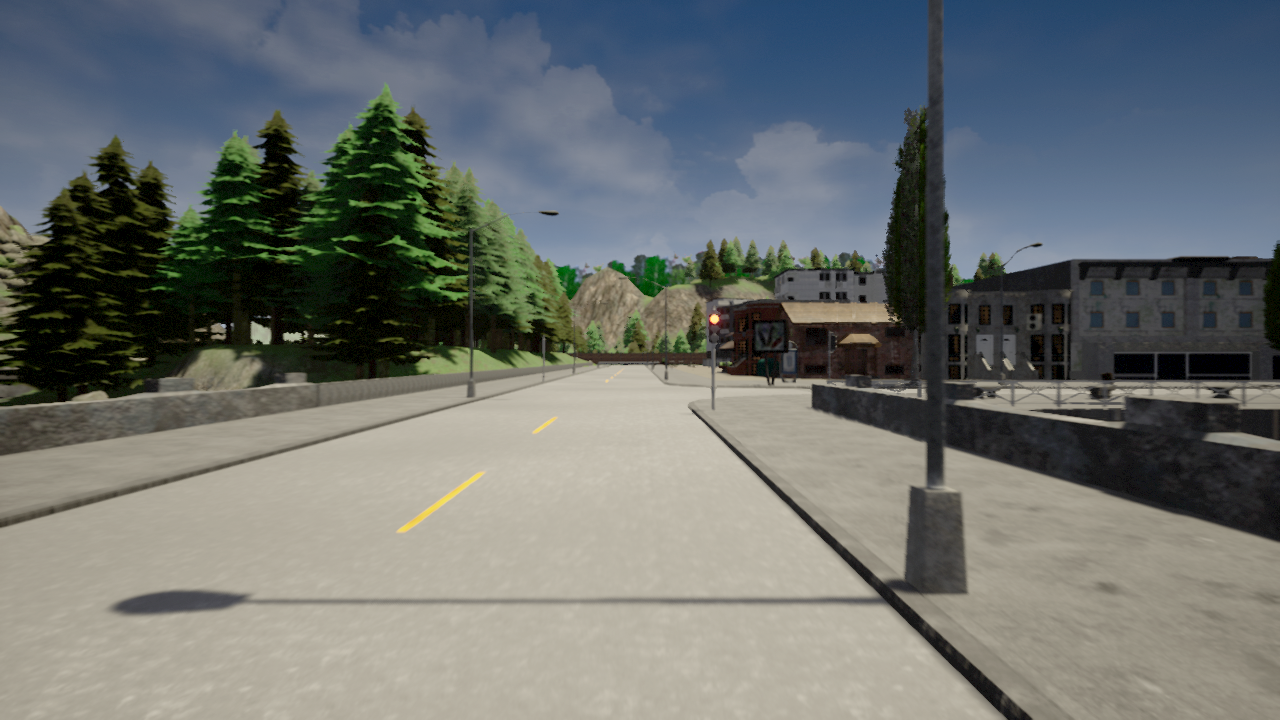red: (709, 313, 721, 344)
